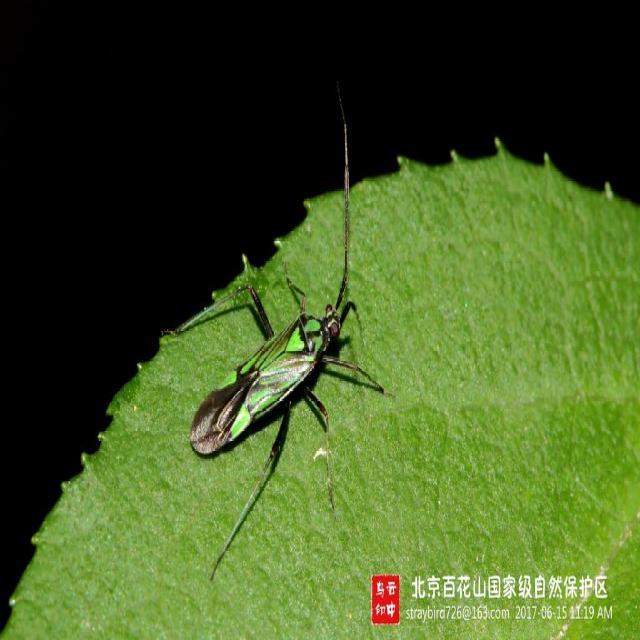Miridae-Adult-: (173, 103, 385, 524)
